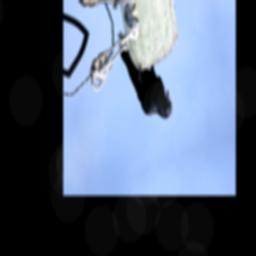Crow: (118, 30, 174, 133)
